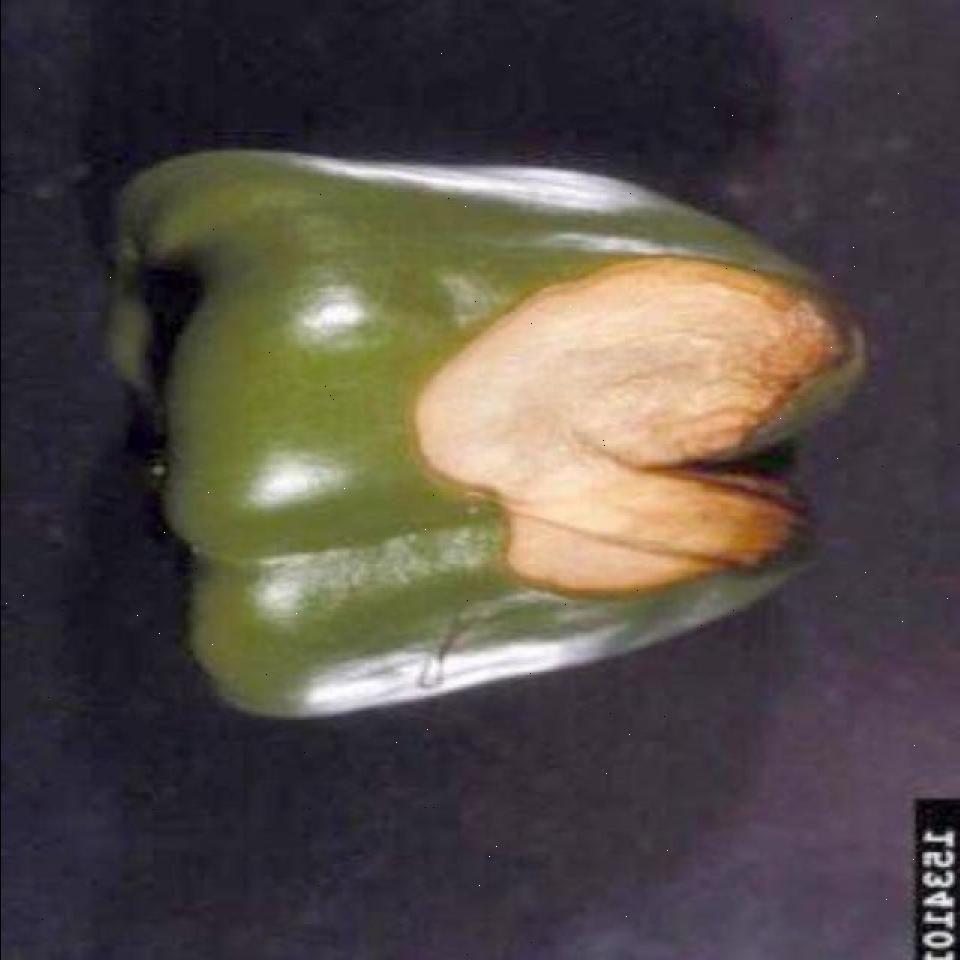Sunscald: (404, 252, 822, 597)
